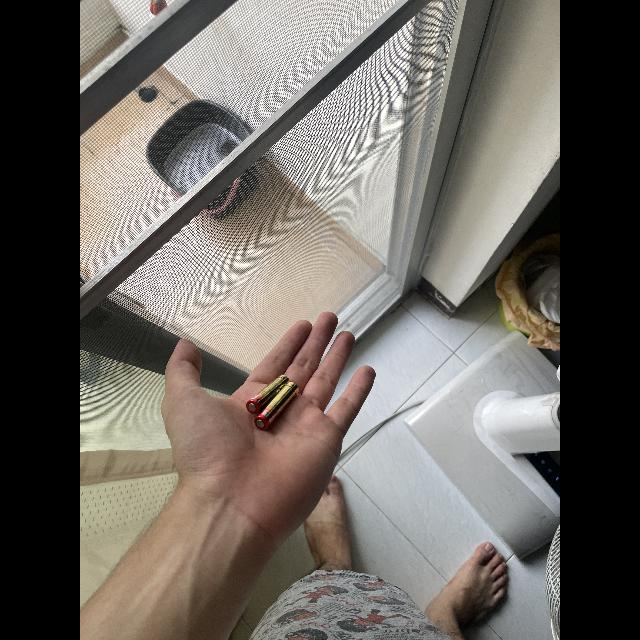battery: (251, 380, 303, 434), (241, 371, 291, 418)
